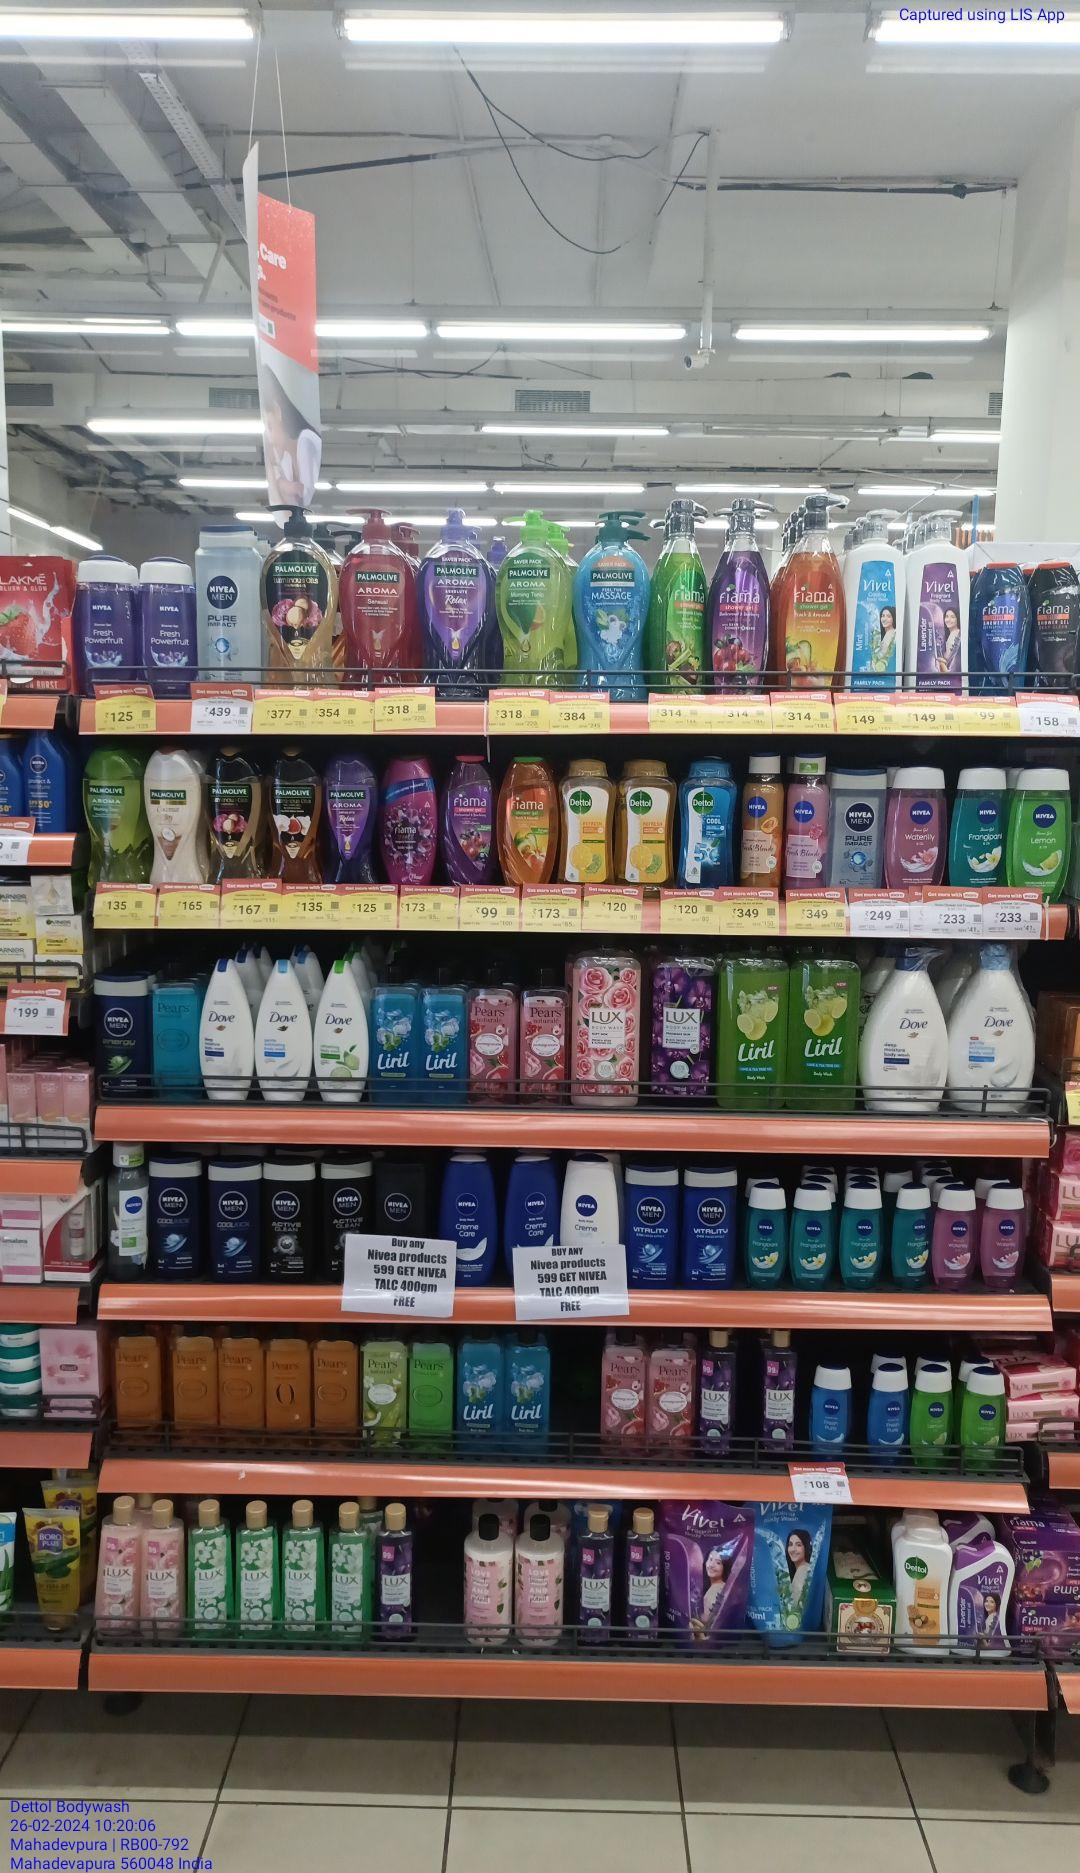Dettol_Bodywash_Cool: (678, 751, 741, 889)
Dettol_Bodywash_Refresh: (618, 756, 676, 884), (561, 759, 617, 884)
Dettol_Nourish_Body_Wash_250ML: (895, 1524, 951, 1653)
Dove_Deep_Moisture_Body_Wash_250ML: (201, 952, 255, 1100)
Dove_Gentle_Exfoliating_Body_Wash_250ML: (256, 960, 311, 1101)
Dove_Refreshing_Body_Wash_250ML: (311, 960, 369, 1101)
Fiama_Shower_Gel_Peach_and_Avocado_250ML: (496, 755, 557, 886)
Lux_Black_Orchid_Scent_and_Juniper_Oil_Body_Wash_245ML: (377, 1501, 418, 1635), (620, 1508, 658, 1644), (756, 1328, 798, 1451), (577, 1505, 615, 1645), (699, 1329, 733, 1455)
Lux_Body_Wash_Skin_Detox_Freesia_Scent_and_Alove_Vera_245ML: (186, 1497, 231, 1639), (283, 1500, 328, 1639), (234, 1500, 279, 1639), (330, 1501, 372, 1634)
Nivea_Creme_Care_Body_Wash_250ML: (442, 1154, 495, 1254), (504, 1155, 561, 1248)
Nivea_Creme_Soft_Body_Wash_250ML: (562, 1150, 616, 1248)
Nivea_Shower_Gel_Frangipani_and_Oil_250ML: (949, 765, 1003, 888)
Nivea_Shower_Gel_Fresh_Powerfruit_250ML: (136, 553, 193, 691), (76, 551, 135, 682)
Nivea_Shower_Gel_Lemon_and_Oil_250ML: (1008, 765, 1075, 895), (908, 1364, 954, 1454), (960, 1366, 1005, 1457)
Nivea_Shower_Gel_Waterlily_and_Oil_250ML: (885, 765, 945, 884), (980, 1182, 1027, 1292), (931, 1185, 977, 1295)
Palmolive_Aroma_Morning_Tonic_Shower_Gel_250ML: (81, 750, 143, 884)
Palmolive_Luminous_Oils_Invigorating_Macadamia_Oil_With_Peony_250ML: (204, 747, 261, 881)
Palmolive_Luminous_Oils_With_White_Orchid_Shower_Gel_250ML: (262, 747, 320, 881)
